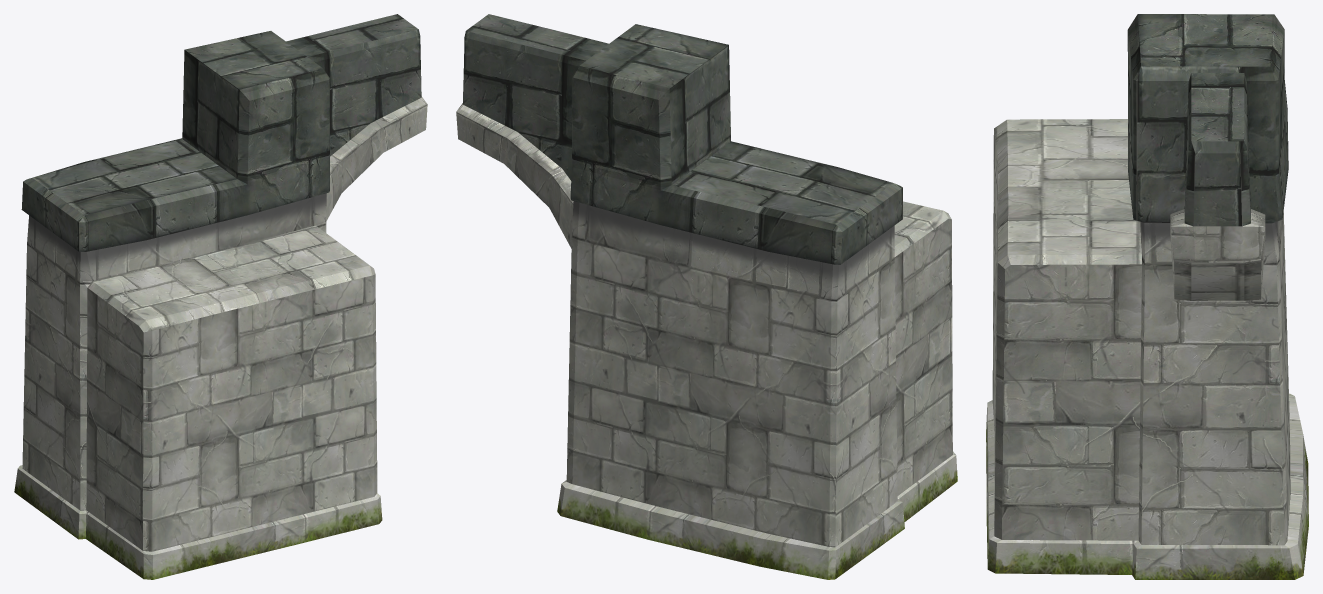
File: Wall_Right_02.FBX
3 views of the same model, side by side, from view 1: azimuth 30°, elevation 25°; view 2: azimuth 150°, elevation 25°; view 3: azimuth 270°, elevation 25° (orthographic). The views are drawn at different scales.
Visible parts, largest first — view 1: Wall_Right_02; view 2: Wall_Right_02; view 3: Wall_Right_02.
Part boxes in pixels (x1,y1,x2,y2): Wall_Right_02: [14, 14, 427, 579]; Wall_Right_02: [456, 14, 957, 579]; Wall_Right_02: [986, 14, 1308, 579].
Bounding box in the file's own units: 221 × 237 × 136.
